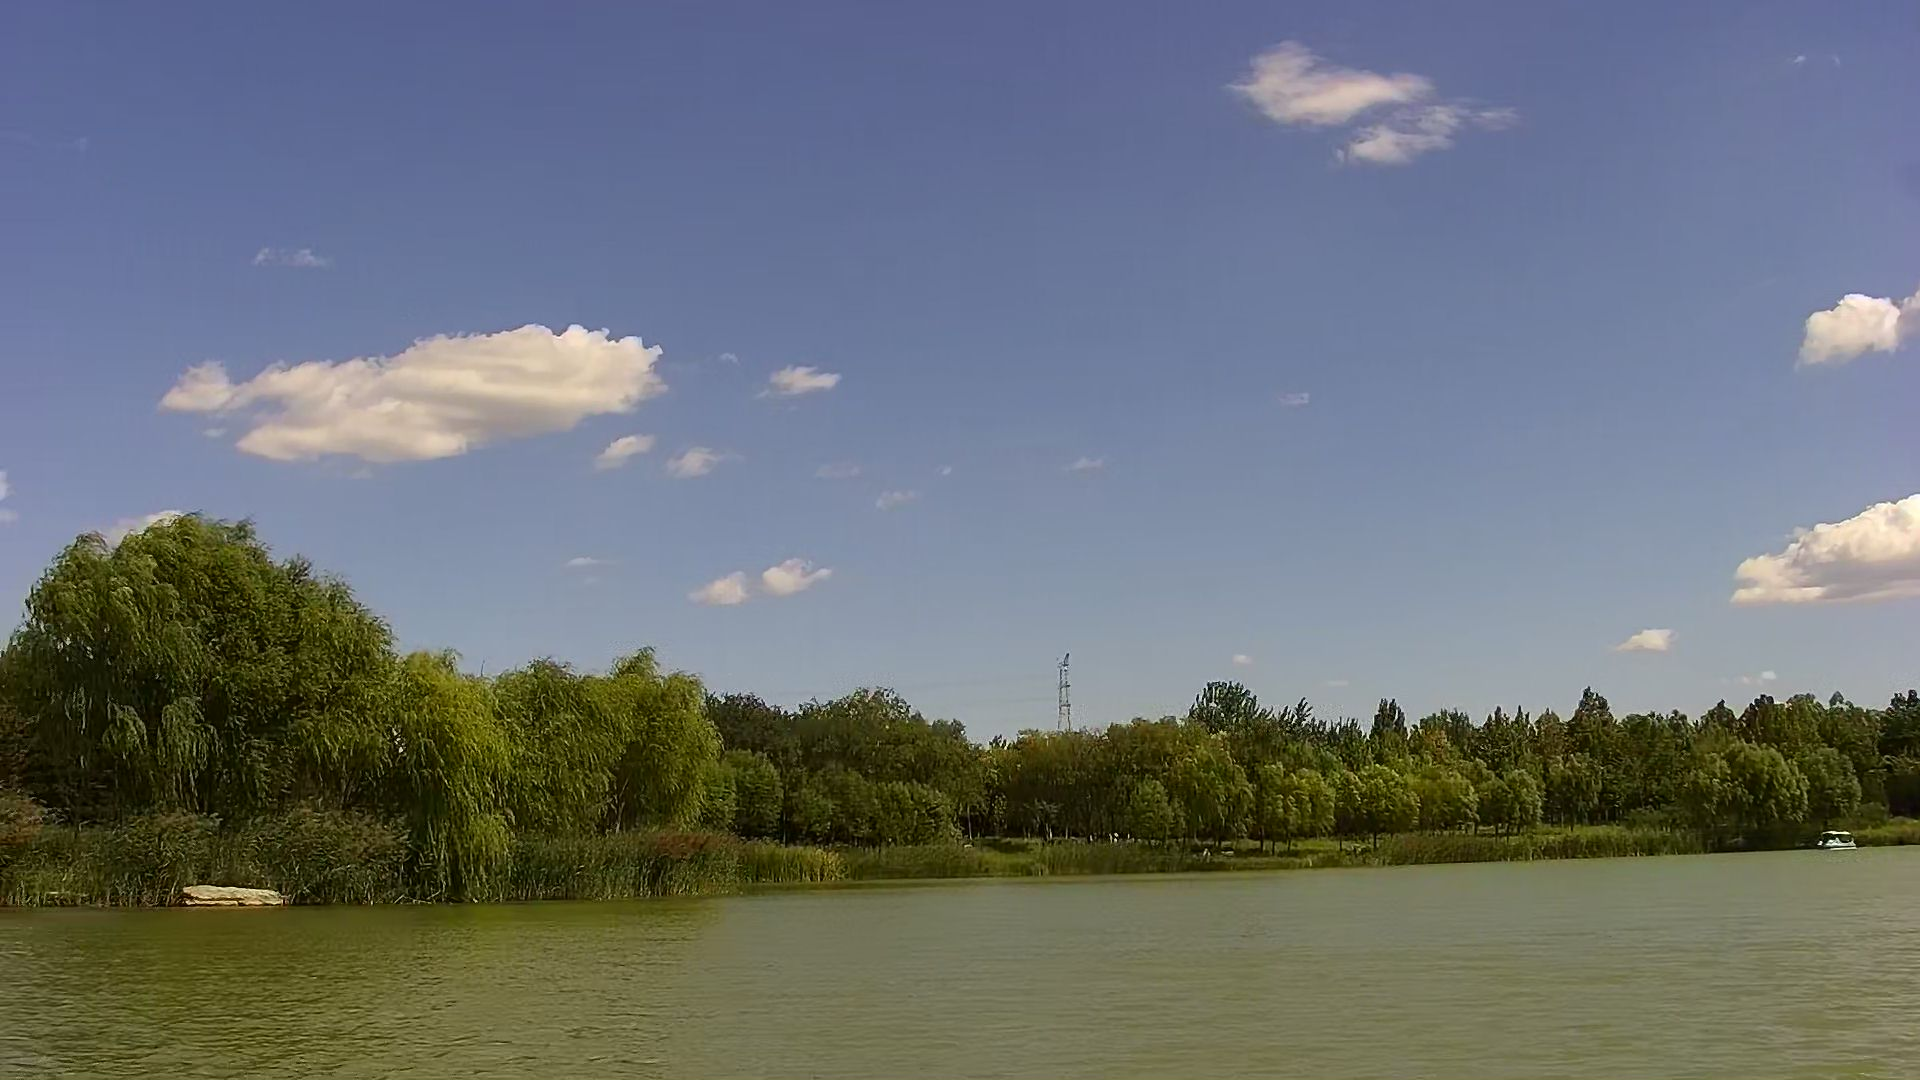boat: (1815, 827, 1859, 851)
